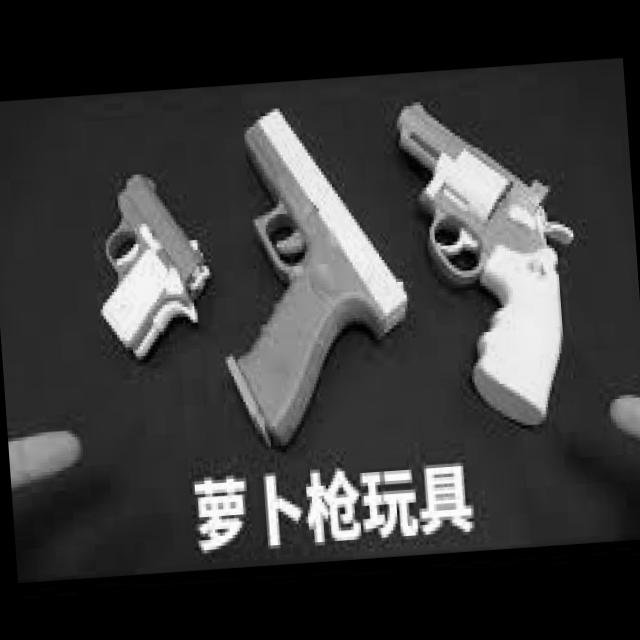gun: (206, 97, 417, 452), (394, 100, 584, 431), (88, 161, 220, 370)
